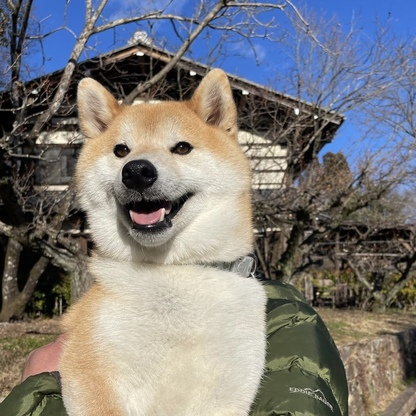shiba: (50, 65, 275, 416)
